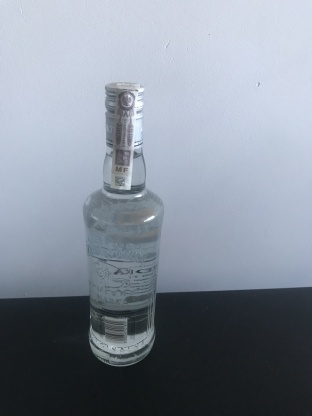nakretka: (102, 76, 146, 152)
